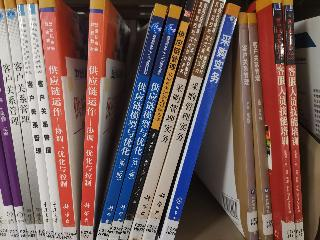book-spine: (139, 0, 226, 240), (127, 0, 212, 240), (159, 2, 240, 240), (119, 0, 195, 240), (92, 4, 169, 240), (105, 4, 182, 240), (3, 0, 45, 240), (13, 0, 55, 240), (36, 0, 77, 240), (25, 0, 64, 240), (0, 0, 37, 240), (243, 11, 275, 240), (267, 0, 295, 240), (77, 0, 105, 239), (238, 14, 259, 240), (284, 0, 303, 240)
